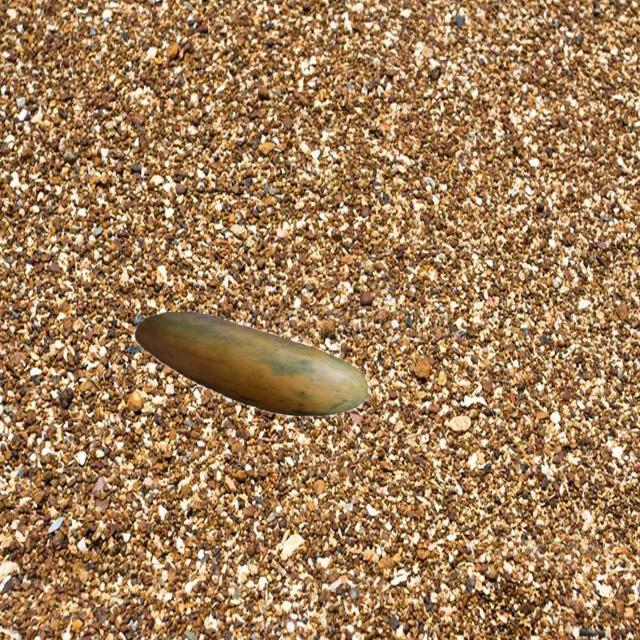Pepaya rippen: (128, 307, 377, 428)
